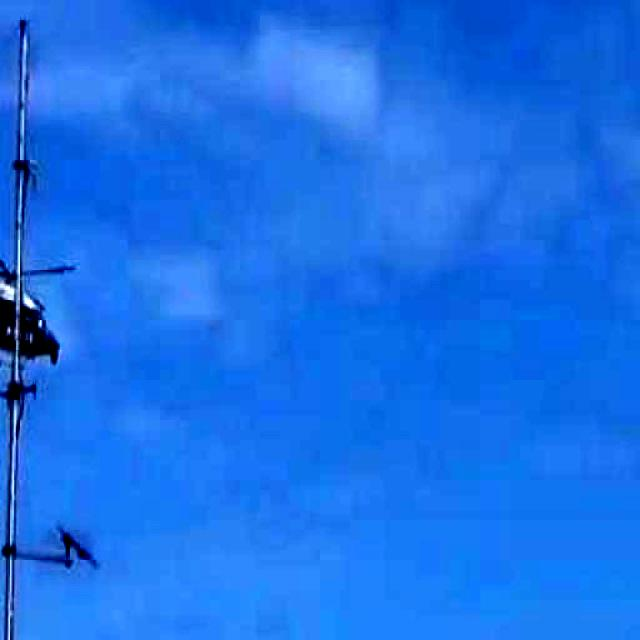drone: (0, 170, 101, 444)
